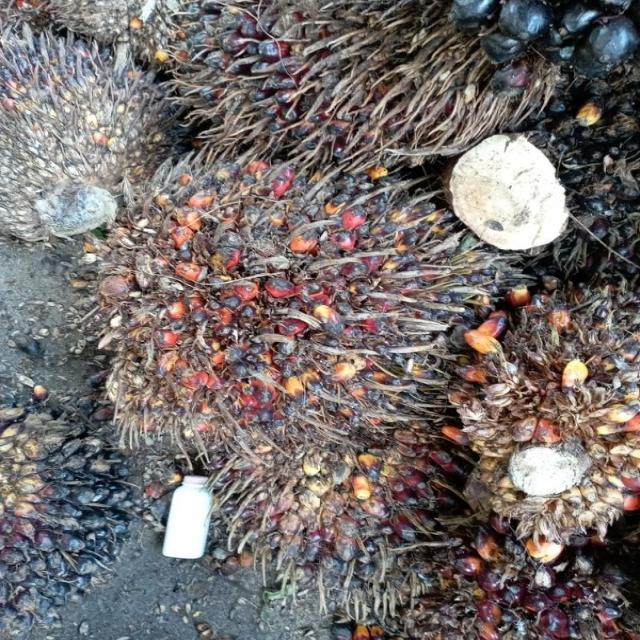fraksi 4: (39, 114, 519, 526)
